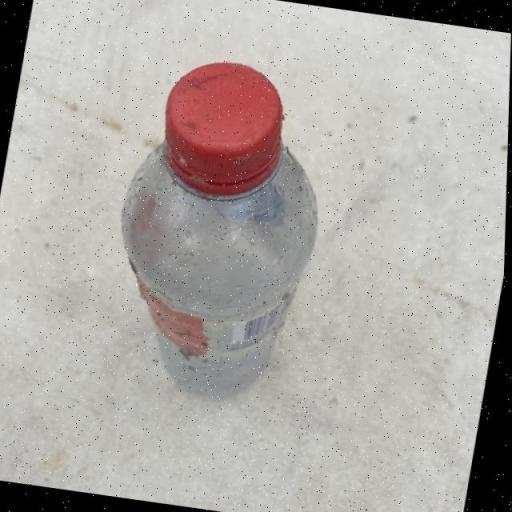plastic: (93, 48, 345, 407)
